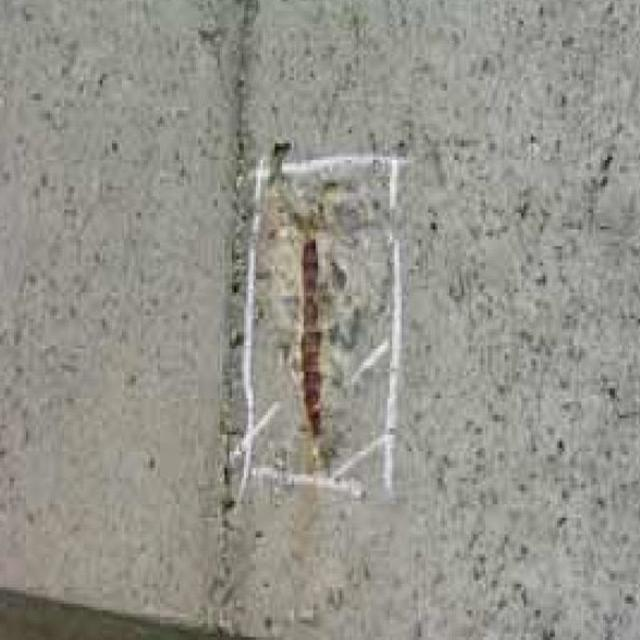spalling: (244, 131, 402, 483)
